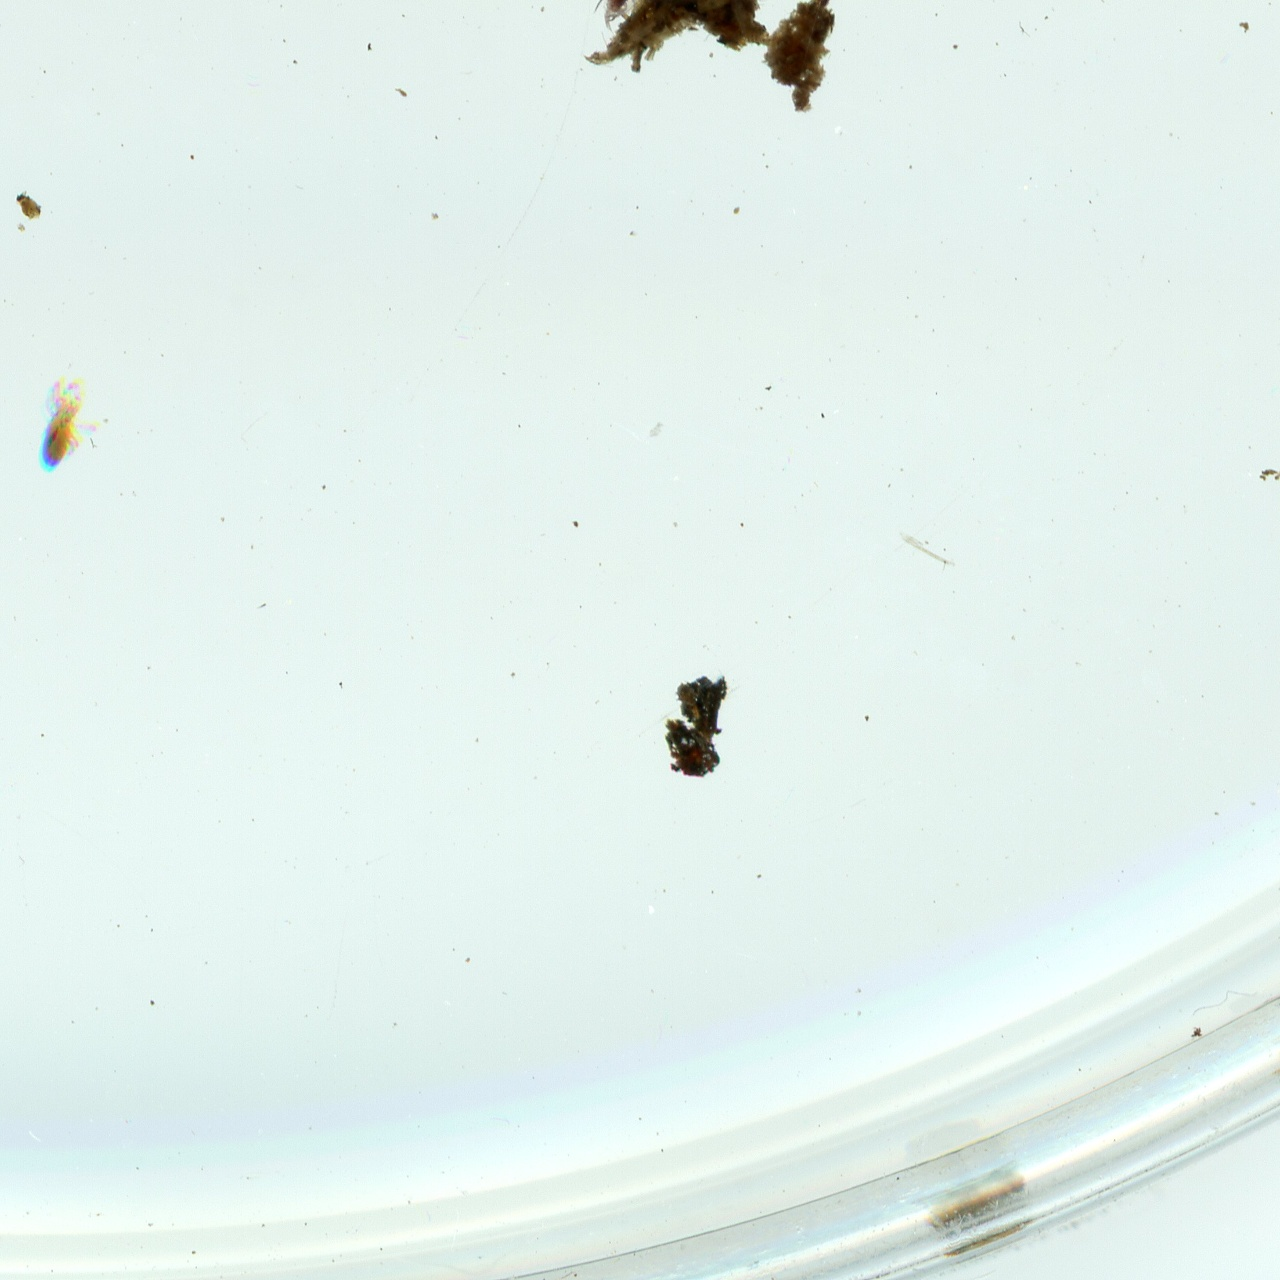arthropod: (30, 369, 114, 484), (586, 0, 647, 41)
